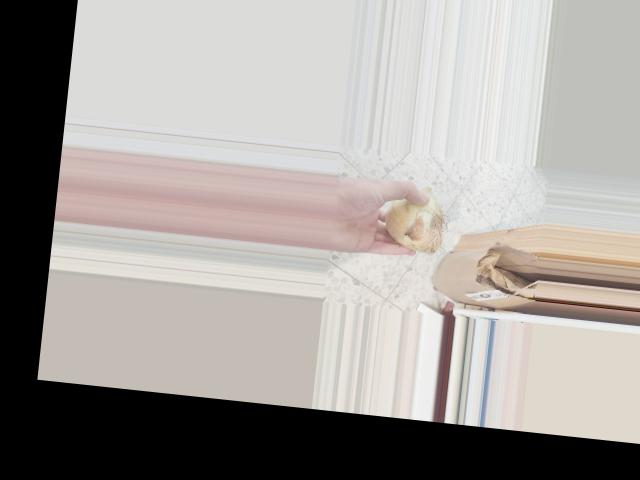onion: (378, 182, 450, 256)
